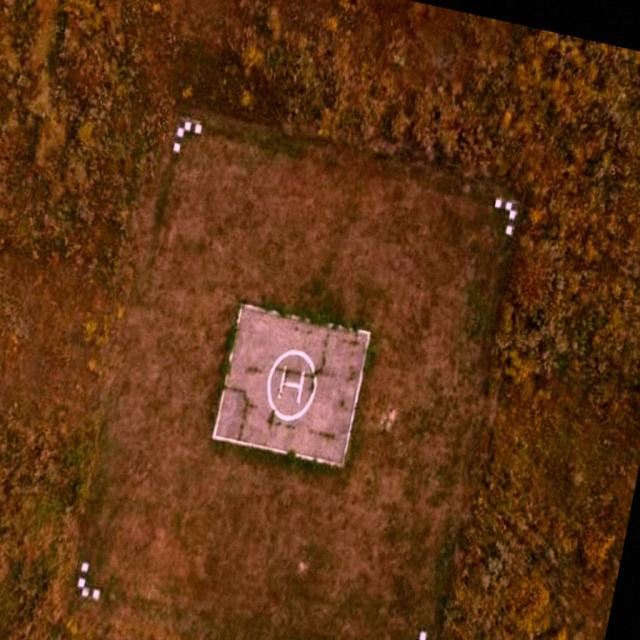helipad: (262, 343, 320, 423)
